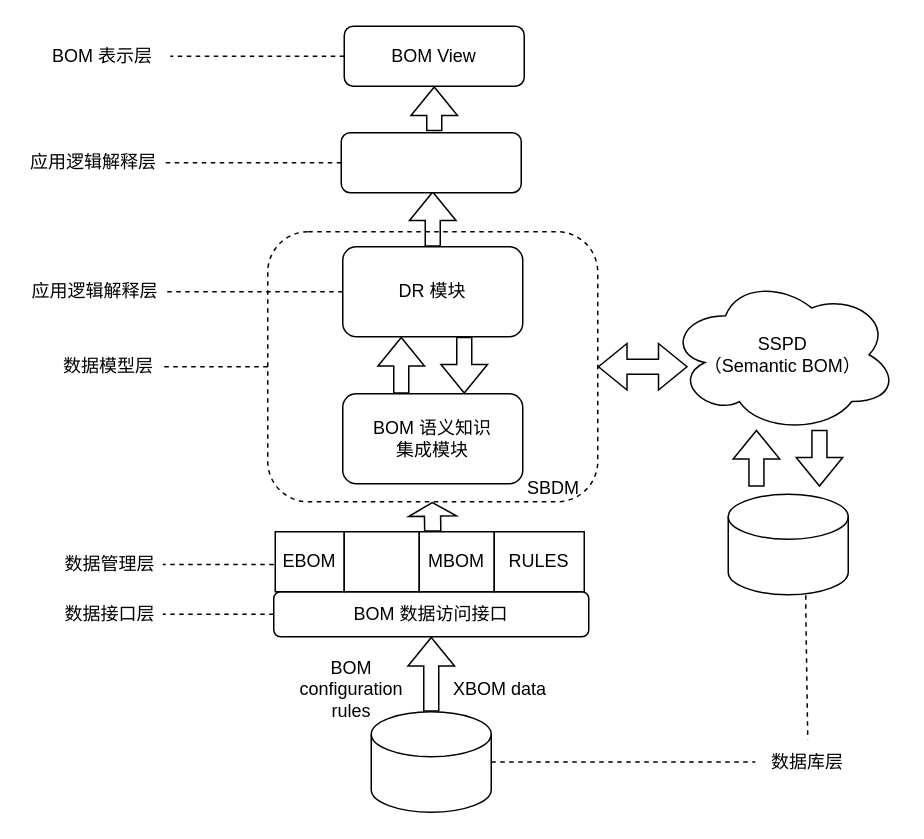
Some shapes in this 924 by 839 pixel diagram are drawn without their labels. The centre of each missing label's shape, as x and y in pixels:
"ERP" belongs at (430,761).
"Neo4j" belongs at (787,544).
"PBOM" belongs at (381,561).
"应用逻辑" belongs at (430,162).
